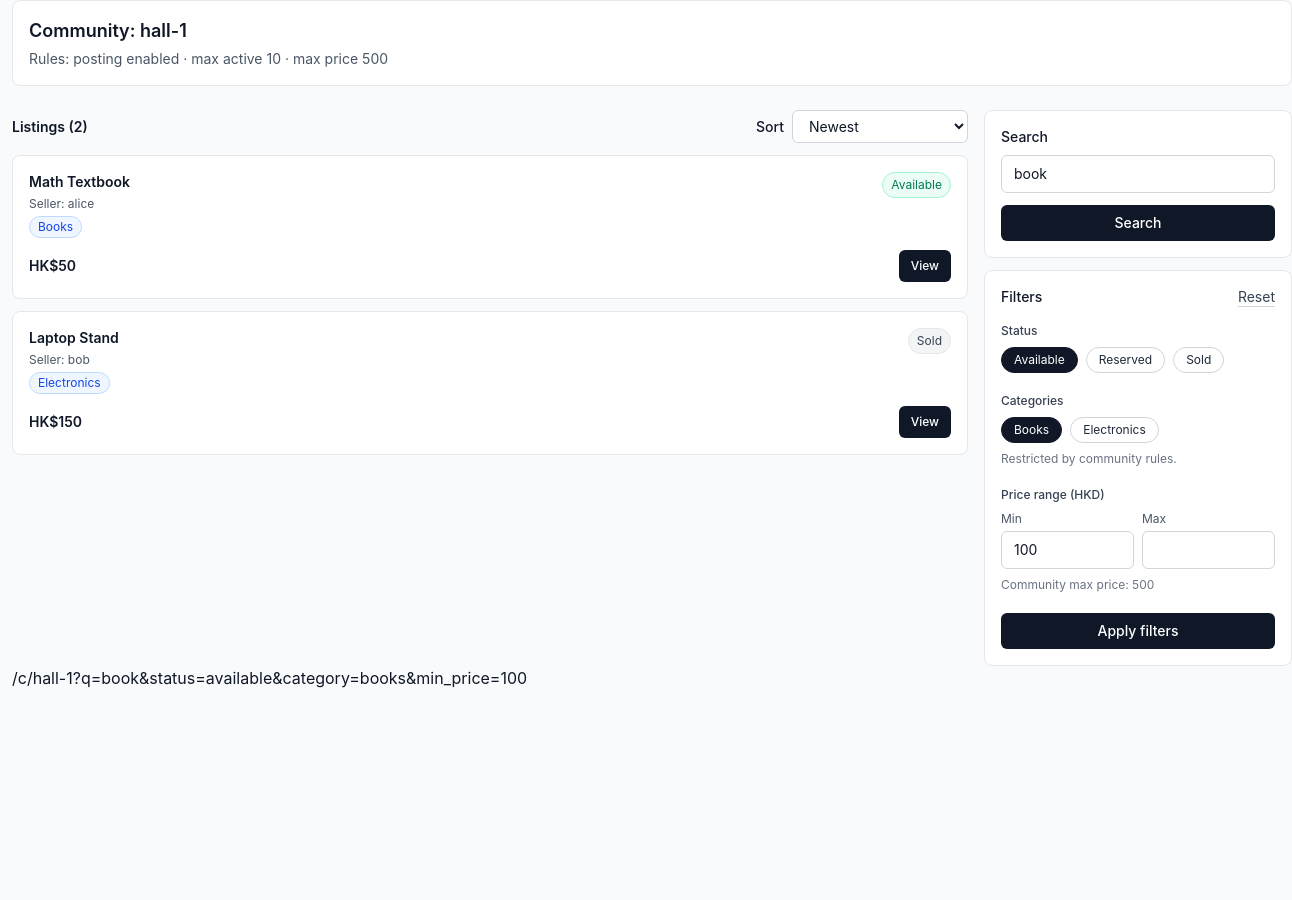
Test: HomePage › resets filters when Reset button clicked
The width and height of the screenshot is (1292, 900).
Expected: the text "Math Textbook" is shown, [29,172,130,192]
Click the button "Reset".
click(1256, 297)  # box [1238,287,1275,307]
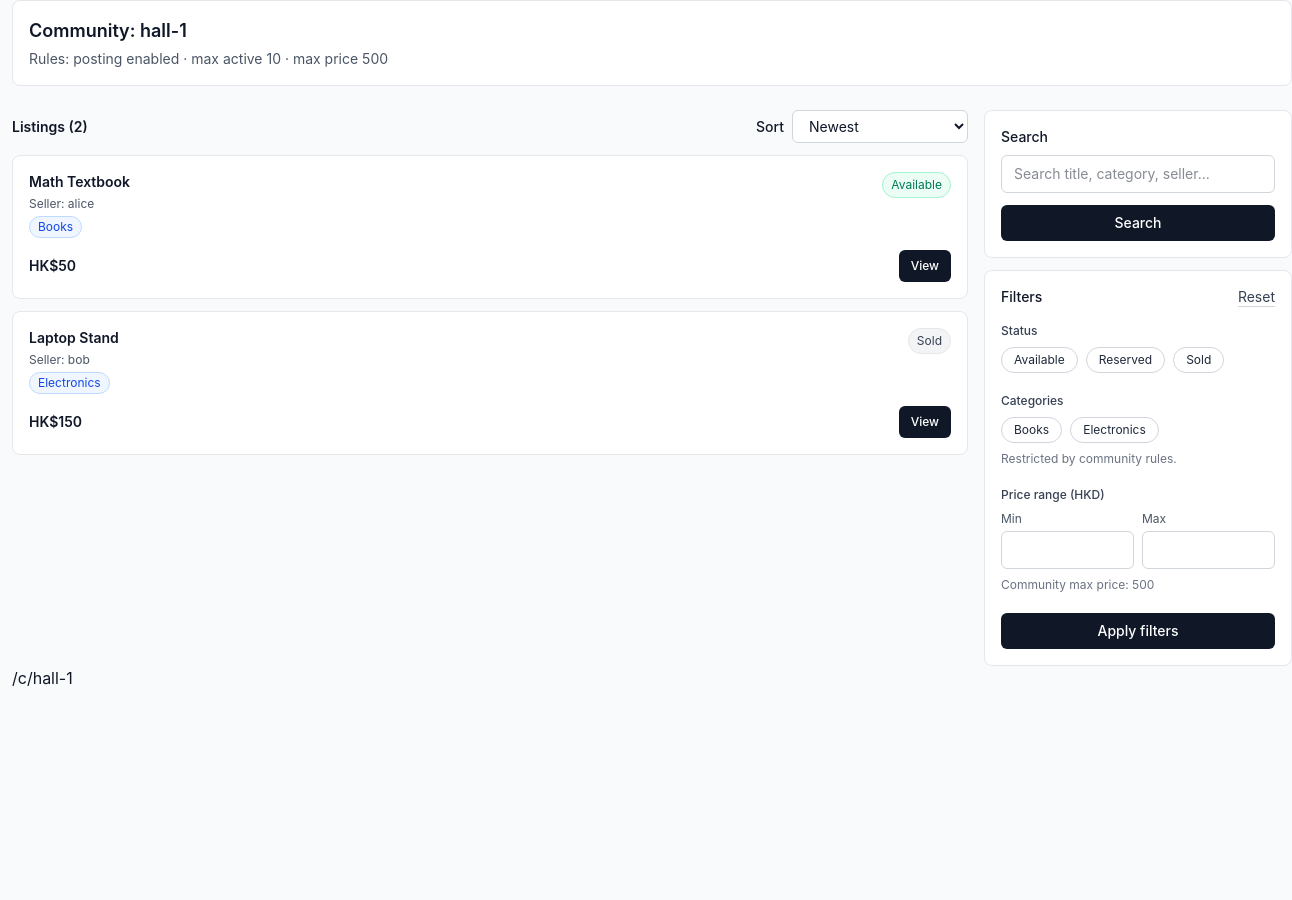
Expected: the number field labelled "Min" is not empty, [1001,531,1134,569]
Expected: the field labelled "Search" is empty, [1001,155,1275,193]
Expected: the checkbox labelled "Available" is not checked, [1001,347,1078,373]
